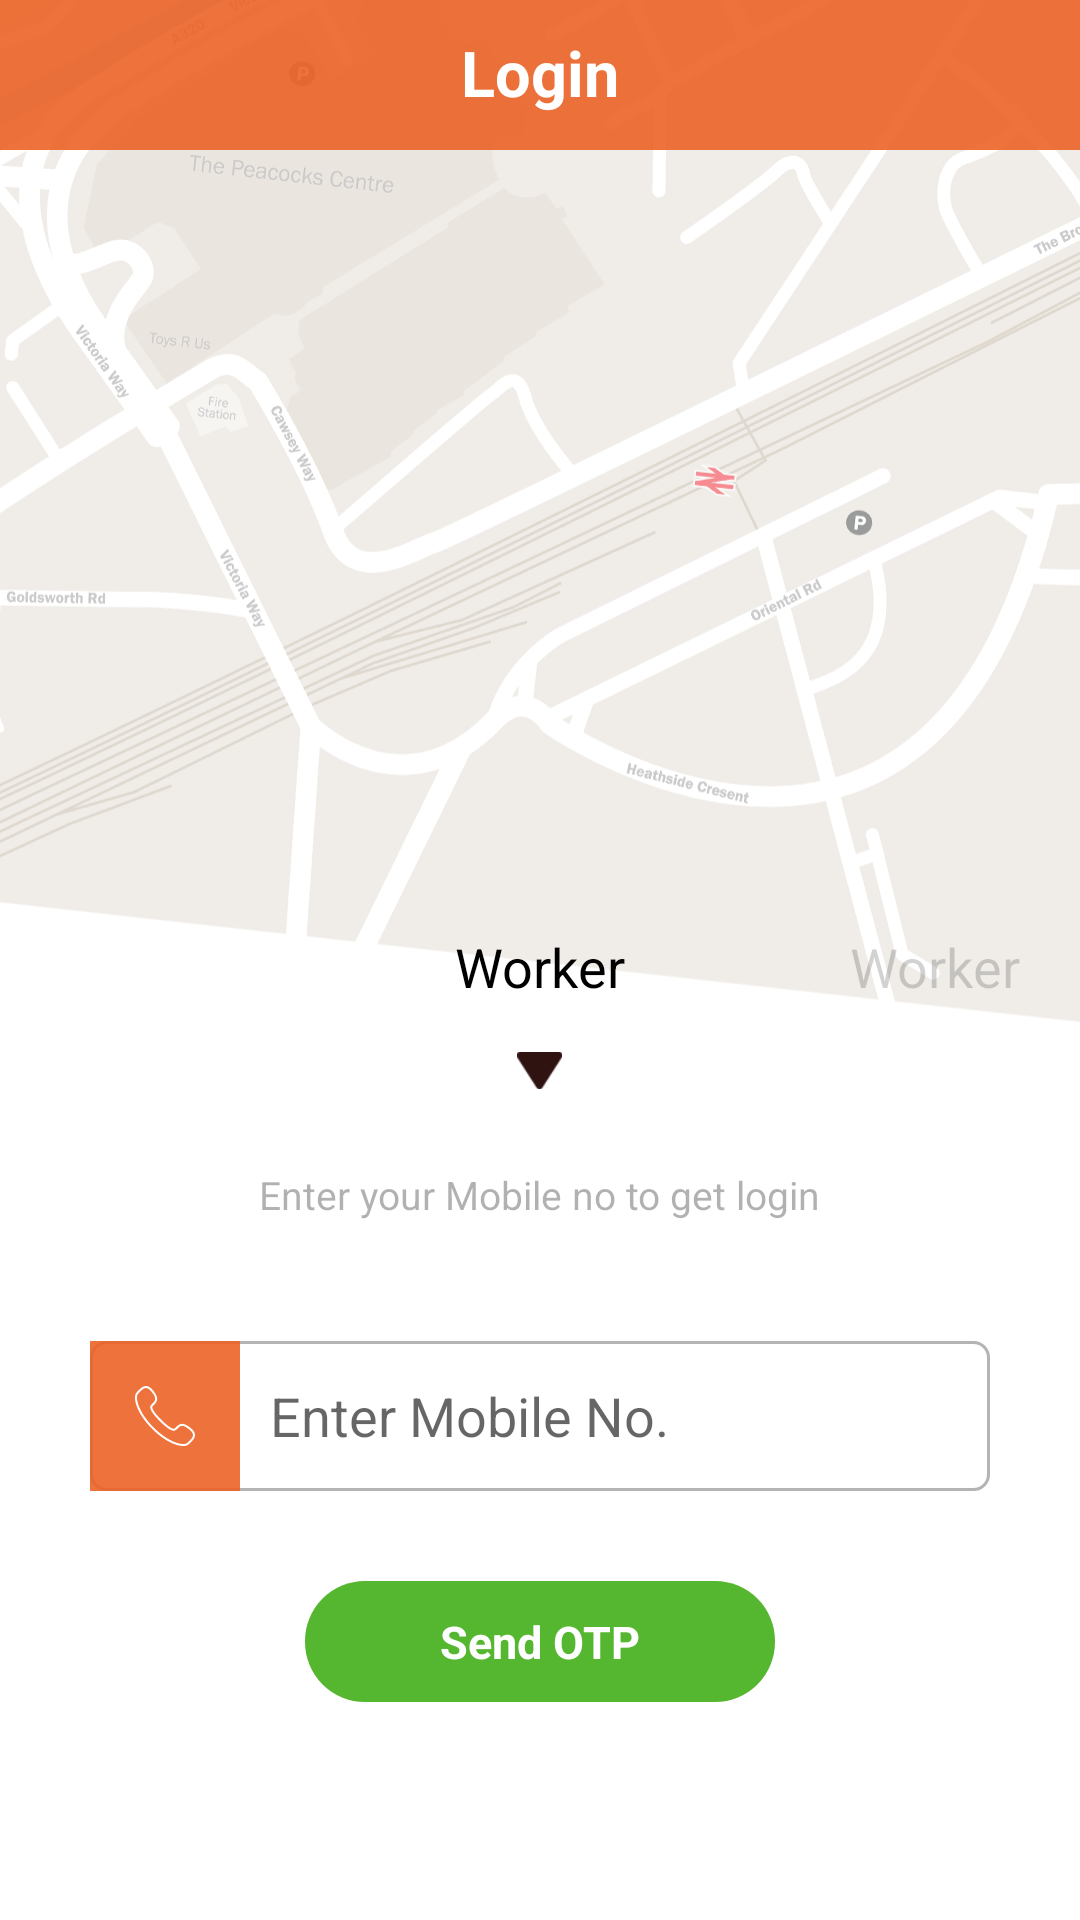

Named icons in this screenshot (1080px x 1920px) and their centers, (x=x, y=y):
arrow: (x=539, y=1070)
phone call: (x=165, y=1416)
